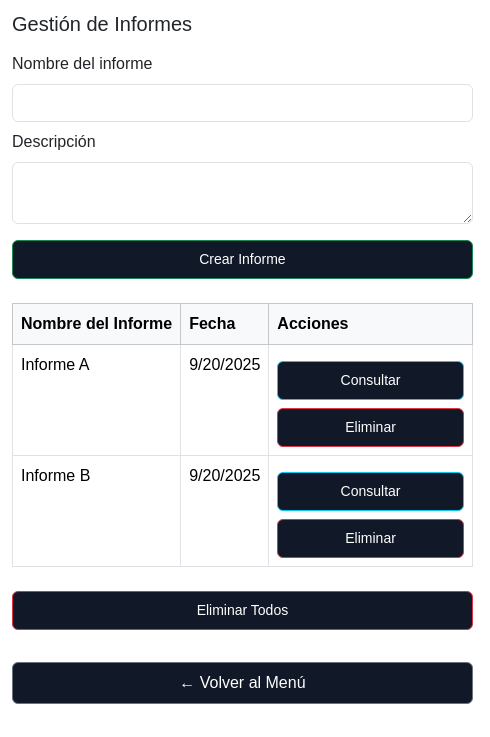
Scenario: GestionInformes › muestra error si falla eliminar informe individual
Click the button "Eliminar" below "Informe A" at (371, 428), box [277,408,464,447]
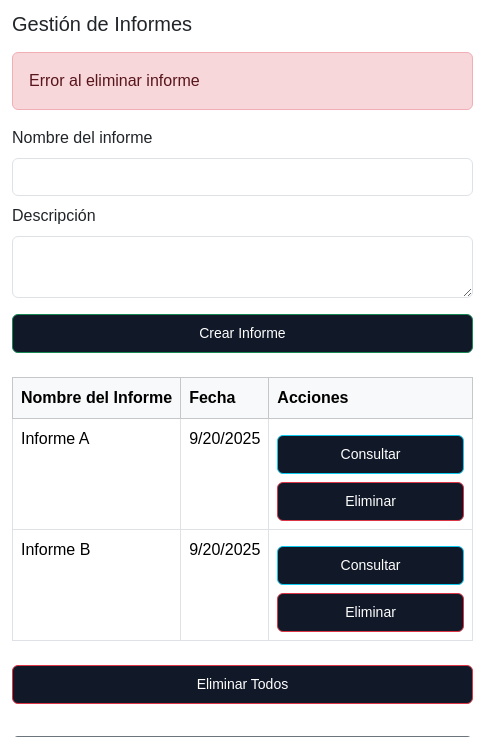
Expected: the text "Error al eliminar informe" is shown, [12,52,473,110]
